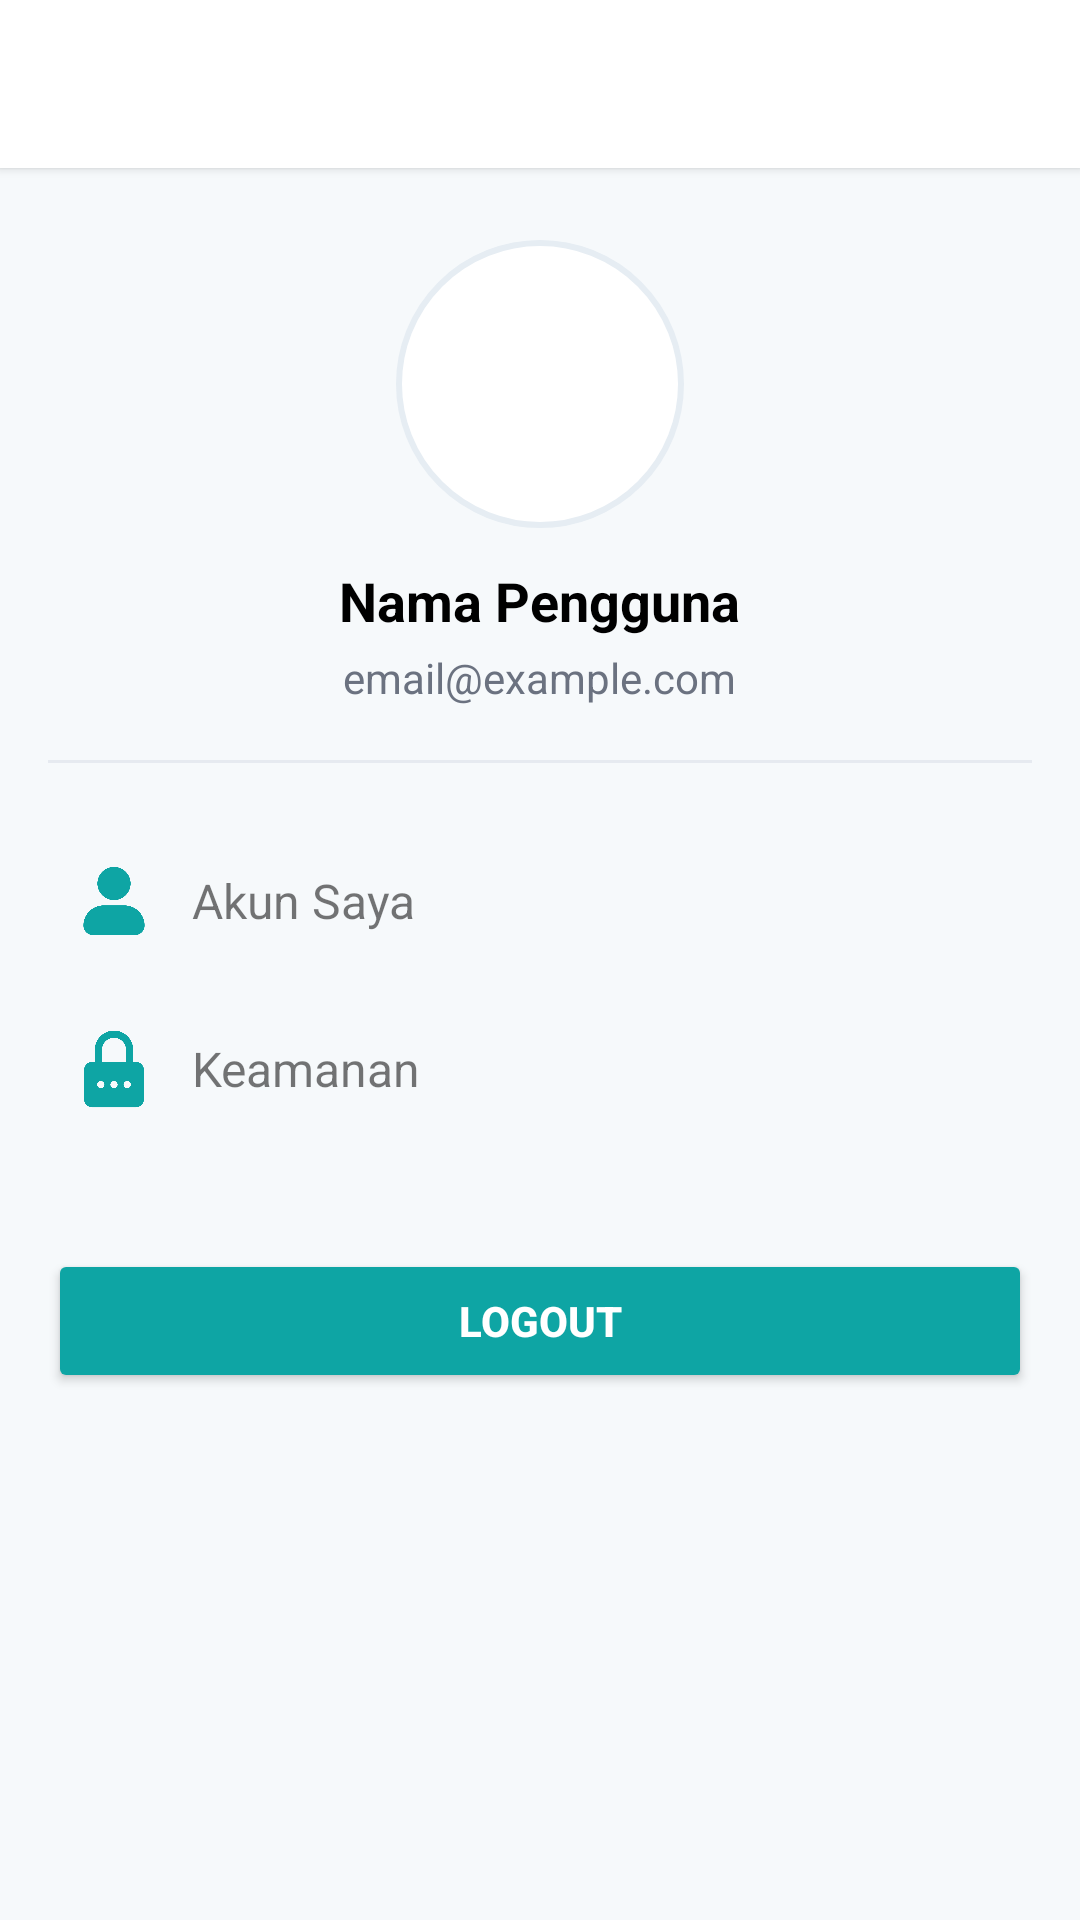

Locate icon controls on the screen. Image size 1080×1920, boxes as rect(x1, y1, x2, y2).
lock: rect(84, 1031, 144, 1107)
profile: rect(83, 867, 145, 935)
